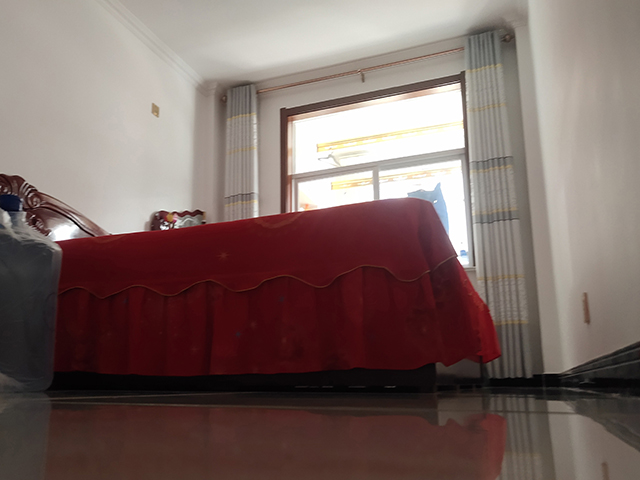bed: (1, 171, 503, 394)
curtain: (462, 28, 535, 382), (222, 82, 259, 217)
